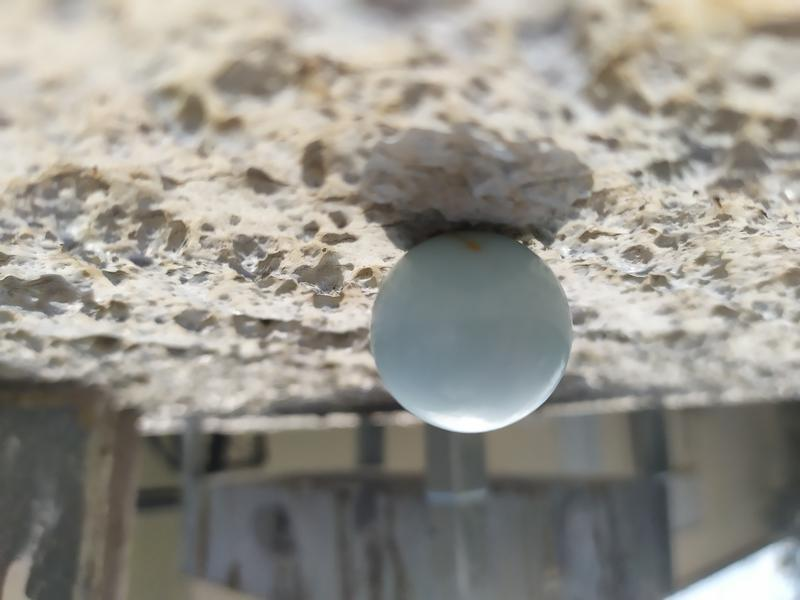Warning: (364, 225, 583, 439)
